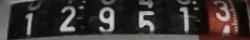digits: (136, 10, 156, 36), (97, 6, 115, 32), (58, 6, 76, 32), (213, 0, 230, 21), (178, 5, 190, 34), (24, 12, 34, 37)
